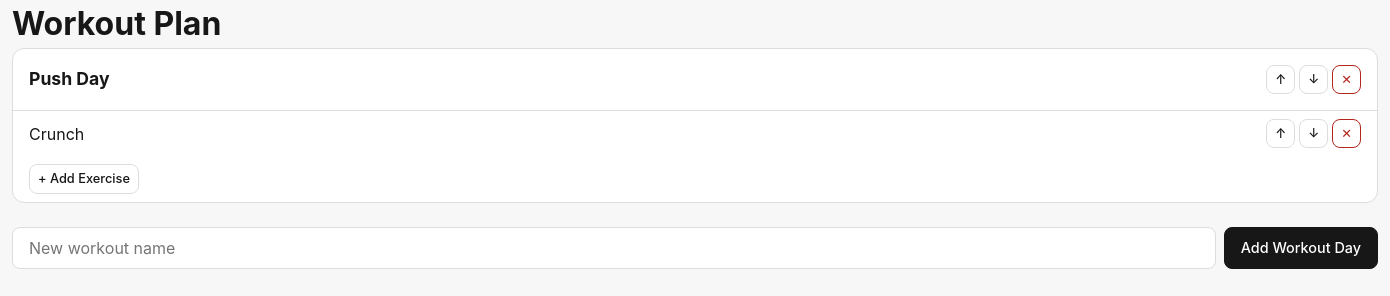
Scenario: PlanPage with a server-backed plan › allows changing an existing exercise in place by clicking its name
Expected: the heading "Push Day" is shown, x1=29 y1=66 x2=110 y2=93
Click the text "Crunch". click: point(57, 134)
box: x1=29 y1=122 x2=84 y2=146
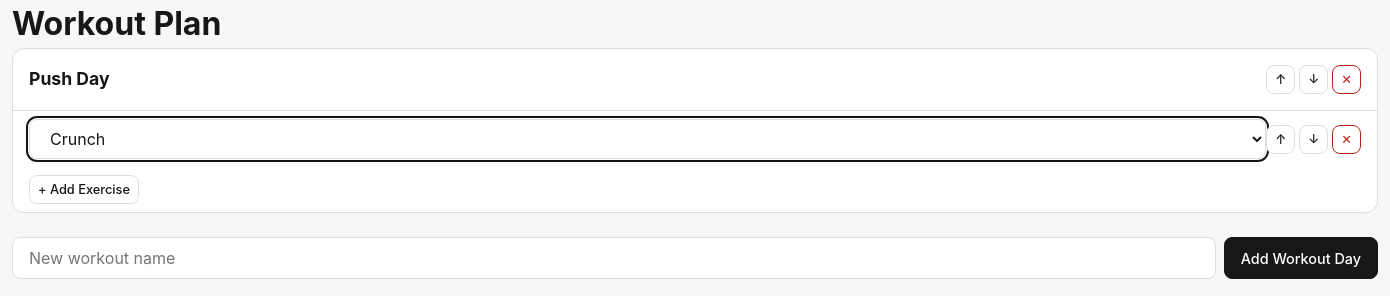
Expected: the dropdown shows "Crunch"
Select "My Custom" in the dropdown. click: point(648, 139)
box: x1=29 y1=119 x2=1266 y2=159
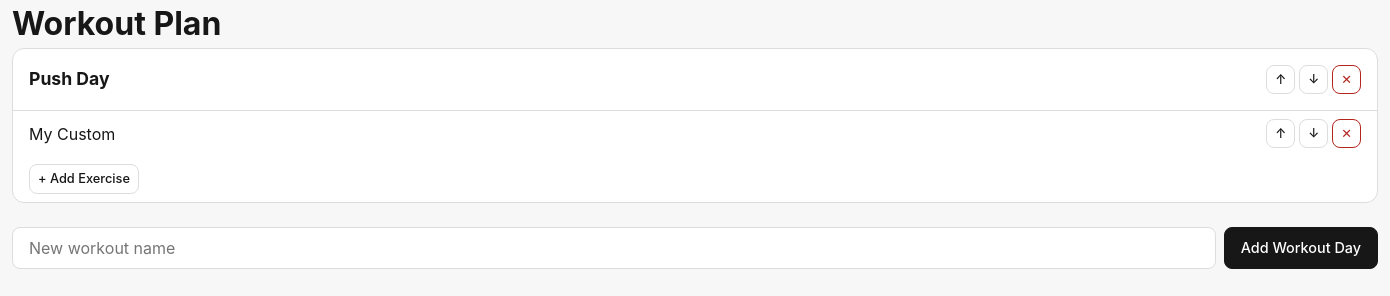
Expected: the text "Crunch" is not shown
Expected: the text "My Custom" is shown, x1=29 y1=122 x2=115 y2=146
Expected: the dropdown is gone
